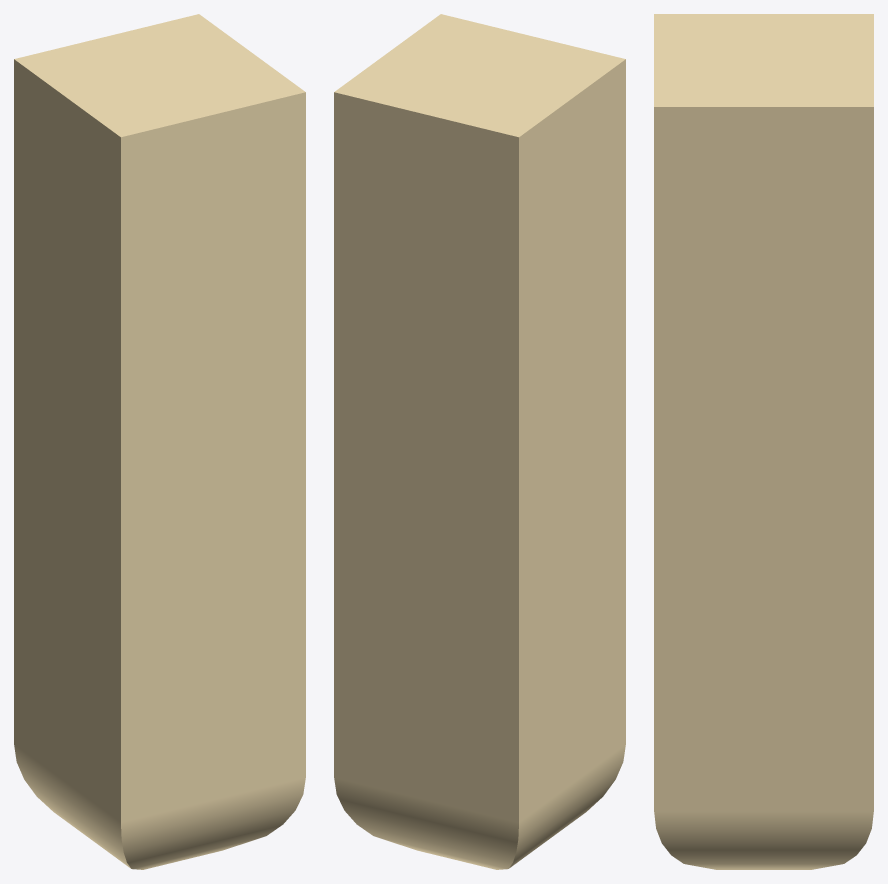
Rendered from PCA9685_v18_265.gltf.
The picture shows the model from 3 angles, left to right: view 1: azimuth 30°, elevation 25°; view 2: azimuth 150°, elevation 25°; view 3: azimuth 270°, elevation 25°; orthographic projection. The views are drawn at different scales.
Parts seen in each view (by area): view 1: mesh7490, mesh7489, mesh7488, mesh7493, mesh7495; view 2: mesh7491, mesh7489, mesh7488, mesh7497, mesh7495; view 3: mesh7492, mesh7488, mesh7496.
Boxes of the visible parts, bbox=[...] form: mesh7490: bbox=[121, 92, 305, 822]; mesh7489: bbox=[14, 59, 120, 822]; mesh7488: bbox=[14, 14, 305, 137]; mesh7493: bbox=[121, 777, 305, 869]; mesh7495: bbox=[14, 744, 130, 868]; mesh7491: bbox=[334, 92, 518, 822]; mesh7489: bbox=[519, 59, 625, 822]; mesh7488: bbox=[334, 14, 625, 137]; mesh7497: bbox=[334, 777, 518, 869]; mesh7495: bbox=[509, 744, 625, 868]; mesh7492: bbox=[654, 107, 873, 811]; mesh7488: bbox=[654, 14, 873, 106]; mesh7496: bbox=[654, 811, 873, 869].
Size of the model in its own units: 0.00065 by 0.0026 by 0.00065.
